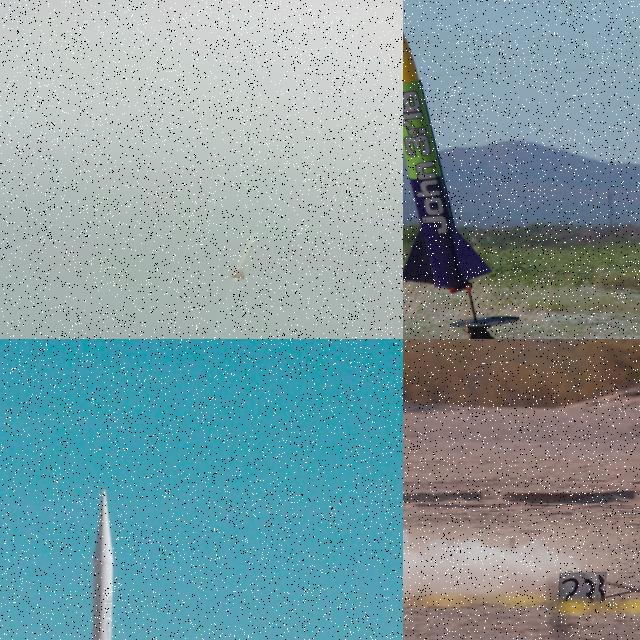Rocket: (403, 1, 494, 296), (63, 487, 138, 640), (231, 231, 257, 279)
